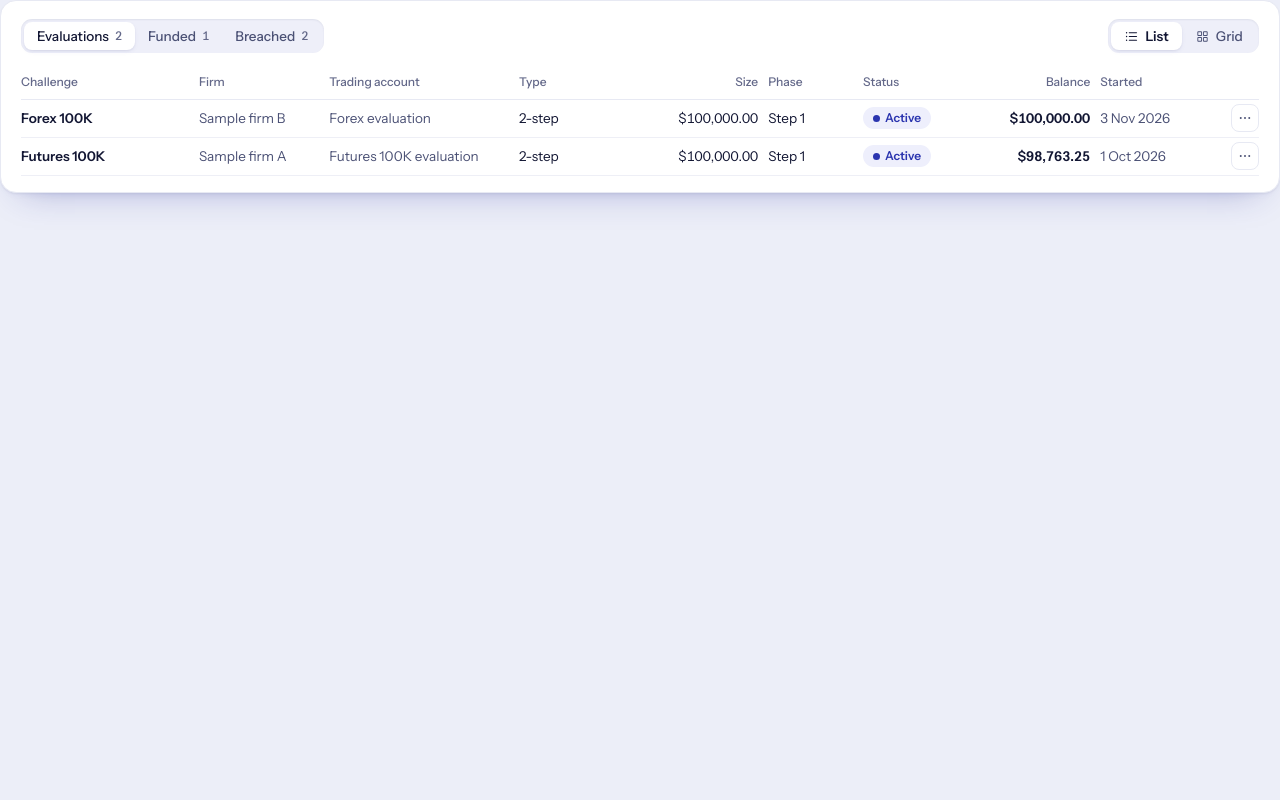
Test case: Edit opens the challenge form
The width and height of the screenshot is (1280, 800).
Press Enter in the button named "Actions for Forex 100K", box [1231,104,1259,132]
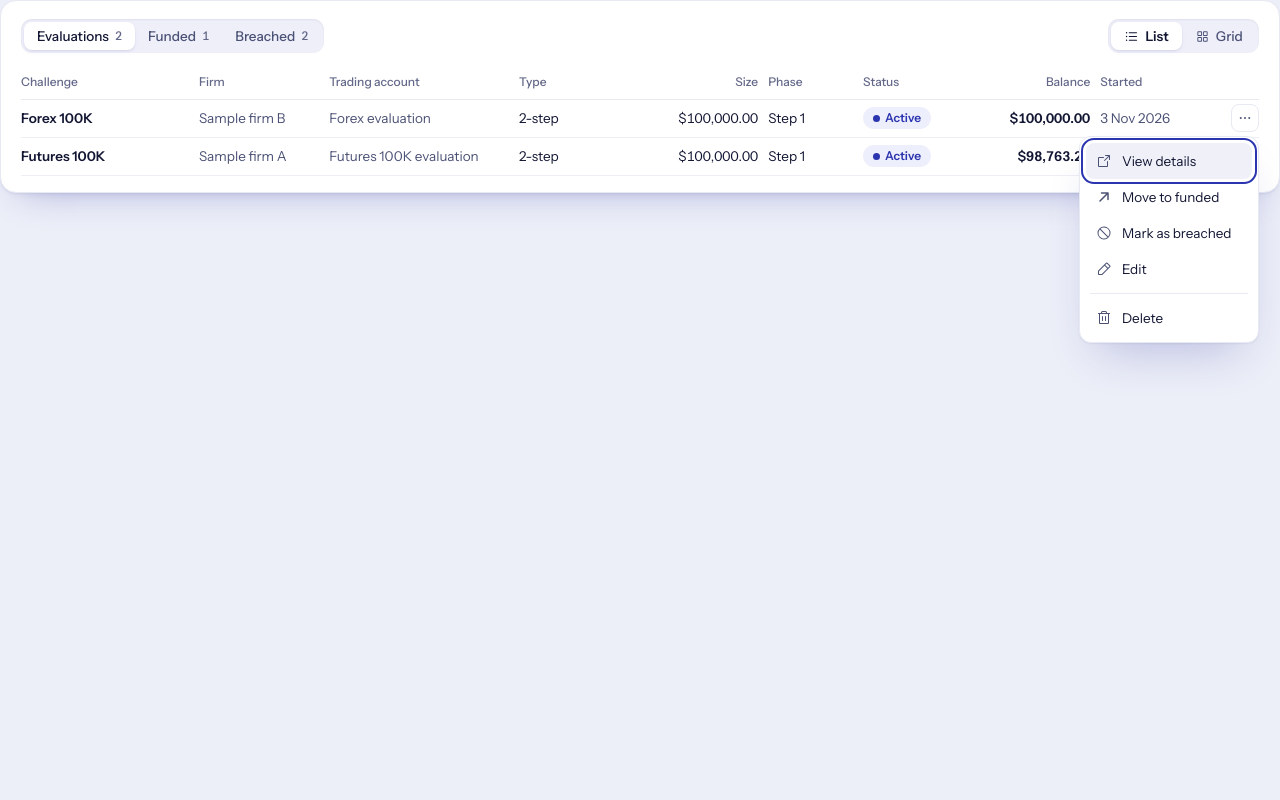
Click the menu item "Edit". click: (1121, 269)
box: [1096,261,1146,277]
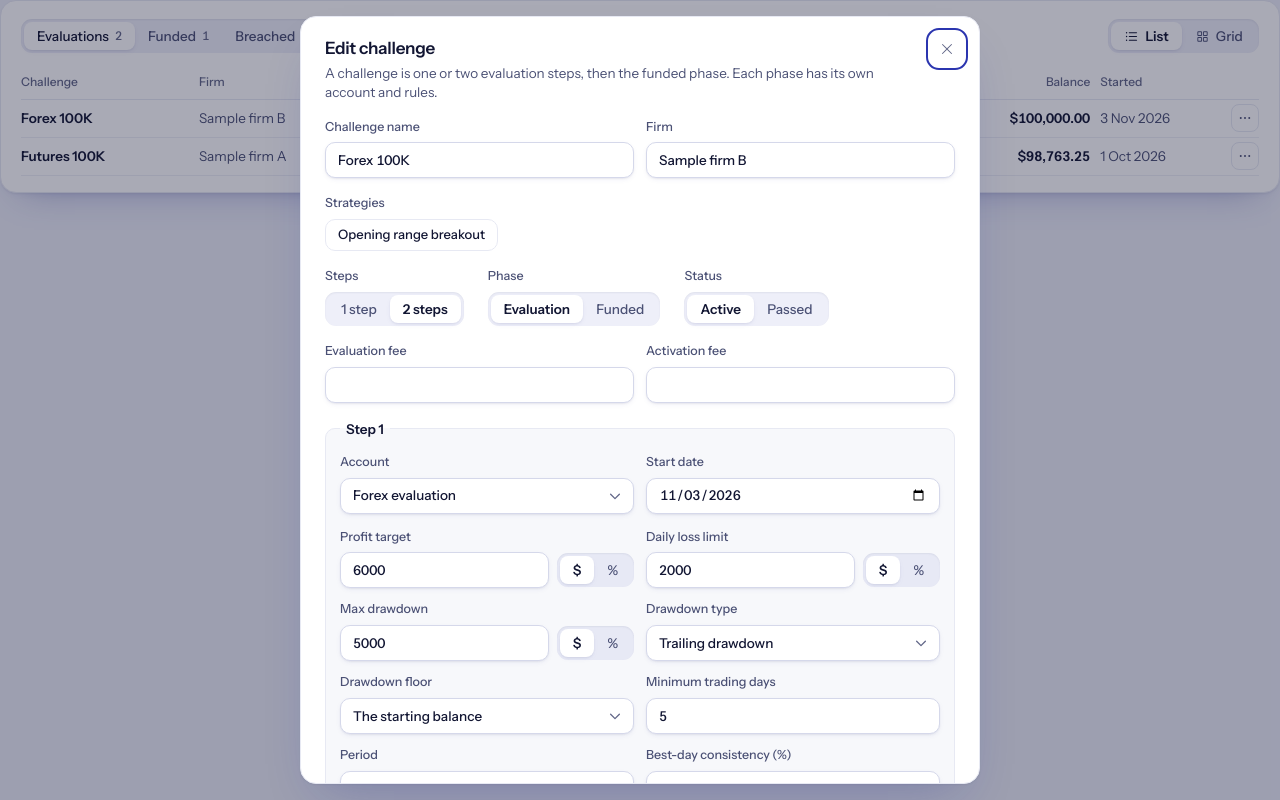
Result: the field labelled "Challenge name" holds "Forex 100K" at [325,142,634,178]
